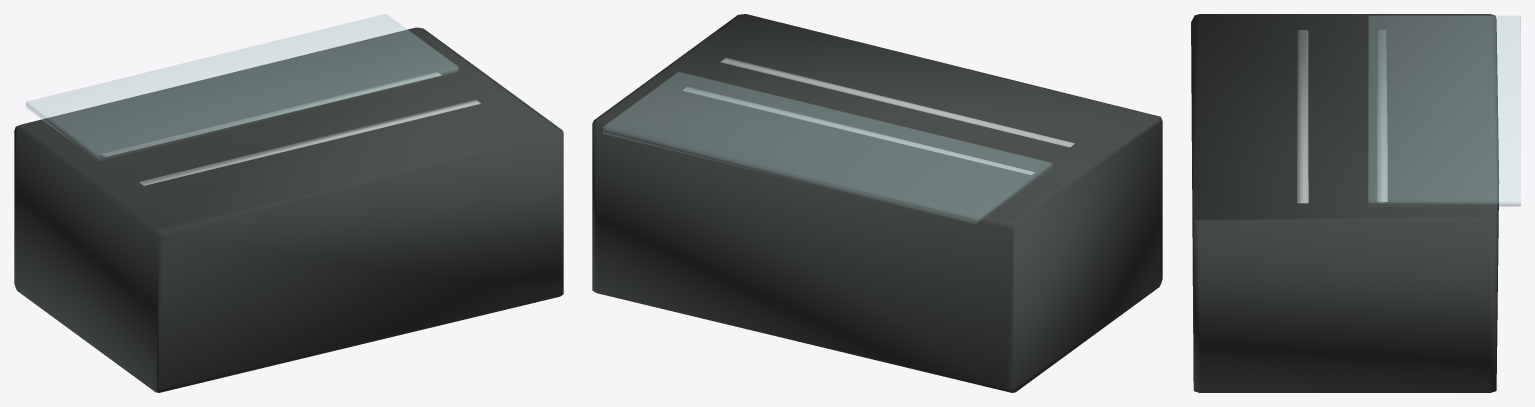
Rendered from display_bakery.glb.
The picture shows the model from 3 angles, left to right: view 1: azimuth 30°, elevation 25°; view 2: azimuth 150°, elevation 25°; view 3: azimuth 270°, elevation 25°; orthographic projection. The views are drawn at different scales.
Visible parts, largest first — view 1: Cabinet, Glass, Tray, Tray.001; view 2: Cabinet, Glass, Tray, Tray.001; view 3: Cabinet, Glass, Tray, Tray.001.
Part boxes in pixels (left/top/right/bottom): Cabinet: left=14, top=27, right=563, bottom=392; Glass: left=26, top=14, right=458, bottom=160; Tray: left=139, top=99, right=480, bottom=185; Tray.001: left=102, top=71, right=441, bottom=156; Cabinet: left=592, top=14, right=1162, bottom=392; Glass: left=603, top=72, right=1051, bottom=224; Tray: left=720, top=58, right=1074, bottom=147; Tray.001: left=682, top=86, right=1034, bottom=174; Cabinet: left=1191, top=14, right=1499, bottom=392; Glass: left=1368, top=16, right=1520, bottom=206; Tray: left=1297, top=30, right=1308, bottom=203; Tray.001: left=1377, top=30, right=1387, bottom=202.
Size of the model in its own units: 1.98 by 0.8175 by 1.33.
